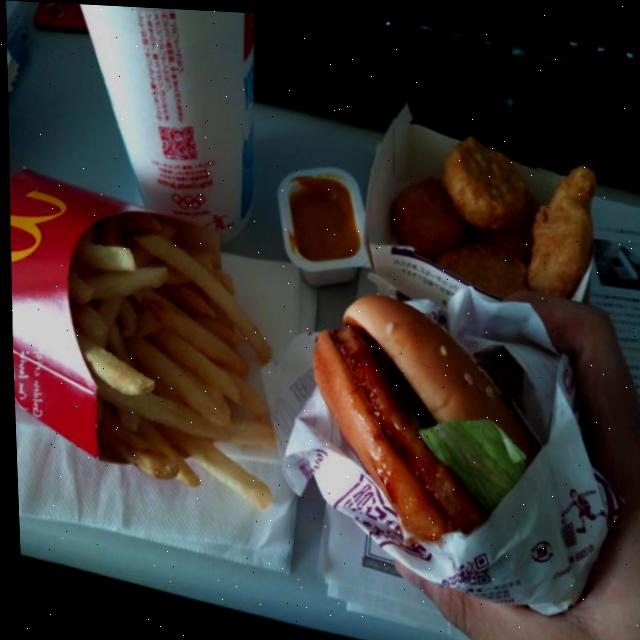汉堡快餐: (301, 270, 551, 559)
炸货点心: (47, 193, 294, 514)
